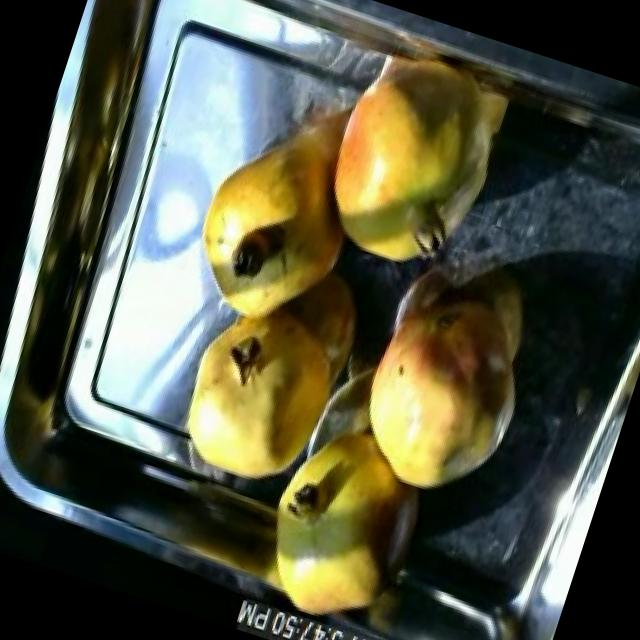fruit: (292, 19, 536, 301), (333, 260, 560, 520), (170, 122, 381, 359), (150, 277, 358, 514), (244, 402, 447, 640)
